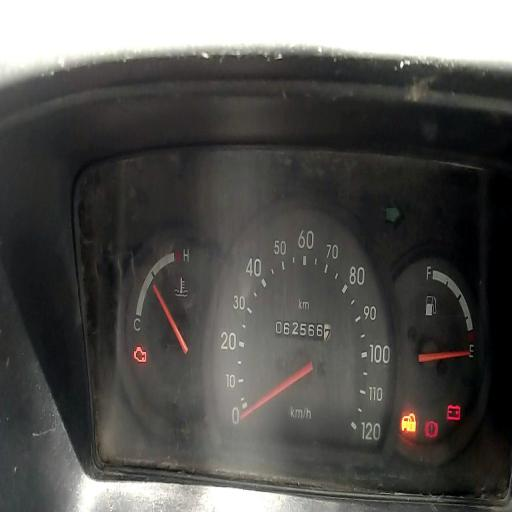brake_system_fault: (426, 420, 438, 439)
car_closed: (401, 412, 416, 434)
check_engine: (133, 346, 147, 364)
vehicle_charging: (447, 404, 460, 420)
